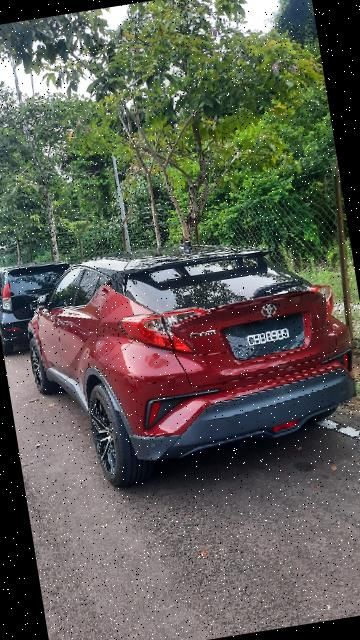License_Plate: (220, 308, 314, 368)
car: (10, 214, 360, 503)
